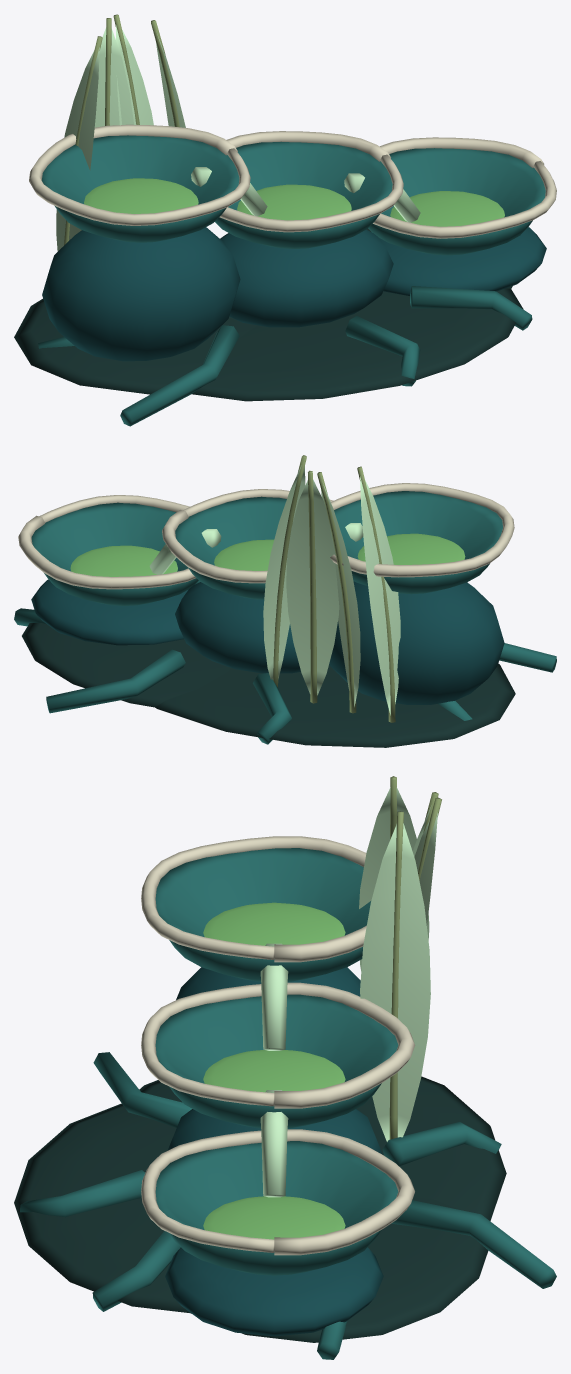
File: building_nutrient_washer_a.obj
3 renders of one model, top to bottom at view 1: azimuth 30°, elevation 25°; view 2: azimuth 150°, elevation 25°; view 3: azimuth 270°, elevation 25°, orthographic. The views are drawn at different scales.
Parts seen in each view (by area): view 1: supporting_chamber, irregular_anchoring_lobe.059, supporting_chamber.001, open_living_cup.059, open_living_cup.061, open_living_cup.060, irregular_anchoring_lobe.057, supporting_chamber.002, grown_cup_lip.059, grown_cup_lip.061, grown_cup_lip.060, visible_cup_contents.059 (+15 smaller); view 2: irregular_anchoring_lobe.057, supporting_chamber, open_living_cup.059, open_living_cup.061, irregular_anchoring_lobe.058, bent_living_blade.057, supporting_chamber.001, supporting_chamber.002, open_living_cup.060, grown_cup_lip.061, bent_living_blade.055, grown_cup_lip.059 (+15 smaller); view 3: irregular_anchoring_lobe.059, open_living_cup.061, open_living_cup.060, open_living_cup.059, supporting_chamber.002, bent_living_blade.058, irregular_anchoring_lobe.058, irregular_anchoring_lobe.057, grown_cup_lip.061, grown_cup_lip.060, grown_cup_lip.059, visible_cup_contents.061 (+15 smaller).
Boxes of the visible parts, left/top/right/bottom form: supporting_chamber: left=42, top=227, right=240, bottom=361; irregular_anchoring_lobe.059: left=191, top=288, right=523, bottom=401; supporting_chamber.001: left=220, top=229, right=393, bottom=327; open_living_cup.059: left=41, top=135, right=239, bottom=242; open_living_cup.061: left=368, top=148, right=545, bottom=255; open_living_cup.060: left=215, top=141, right=392, bottom=248; irregular_anchoring_lobe.057: left=14, top=298, right=256, bottom=394; supporting_chamber.002: left=379, top=227, right=546, bottom=295; grown_cup_lip.059: left=29, top=124, right=250, bottom=225; grown_cup_lip.061: left=373, top=137, right=556, bottom=238; grown_cup_lip.060: left=219, top=131, right=403, bottom=232; visible_cup_contents.059: left=84, top=178, right=198, bottom=213; irregular_anchoring_lobe.057: left=155, top=663, right=515, bottom=747; supporting_chamber: left=329, top=581, right=504, bottom=704; open_living_cup.059: left=334, top=491, right=502, bottom=594; open_living_cup.061: left=31, top=502, right=198, bottom=605; irregular_anchoring_lobe.058: left=22, top=623, right=230, bottom=707; bent_living_blade.057: left=286, top=479, right=339, bottom=695; supporting_chamber.001: left=175, top=582, right=300, bottom=673; supporting_chamber.002: left=31, top=579, right=187, bottom=645; open_living_cup.060: left=175, top=496, right=286, bottom=599; grown_cup_lip.061: left=18, top=495, right=195, bottom=589; bent_living_blade.055: left=360, top=476, right=400, bottom=715; grown_cup_lip.059: left=330, top=483, right=514, bottom=577; irregular_anchoring_lobe.059: left=14, top=1103, right=189, bottom=1312; open_living_cup.061: left=155, top=1141, right=398, bottom=1275; open_living_cup.060: left=155, top=994, right=398, bottom=1128; open_living_cup.059: left=155, top=848, right=370, bottom=981; supporting_chamber.002: left=165, top=1247, right=383, bottom=1336; bent_living_blade.058: left=360, top=823, right=430, bottom=1141; irregular_anchoring_lobe.058: left=190, top=1196, right=488, bottom=1342; irregular_anchoring_lobe.057: left=139, top=1076, right=506, bottom=1221; grown_cup_lip.061: left=141, top=1129, right=414, bottom=1255; grown_cup_lip.060: left=141, top=982, right=415, bottom=1108; grown_cup_lip.059: left=141, top=836, right=366, bottom=962; visible_cup_contents.061: left=203, top=1196, right=345, bottom=1239.
Size of the model in its own units: 3.63 by 1.96 by 2.73.
